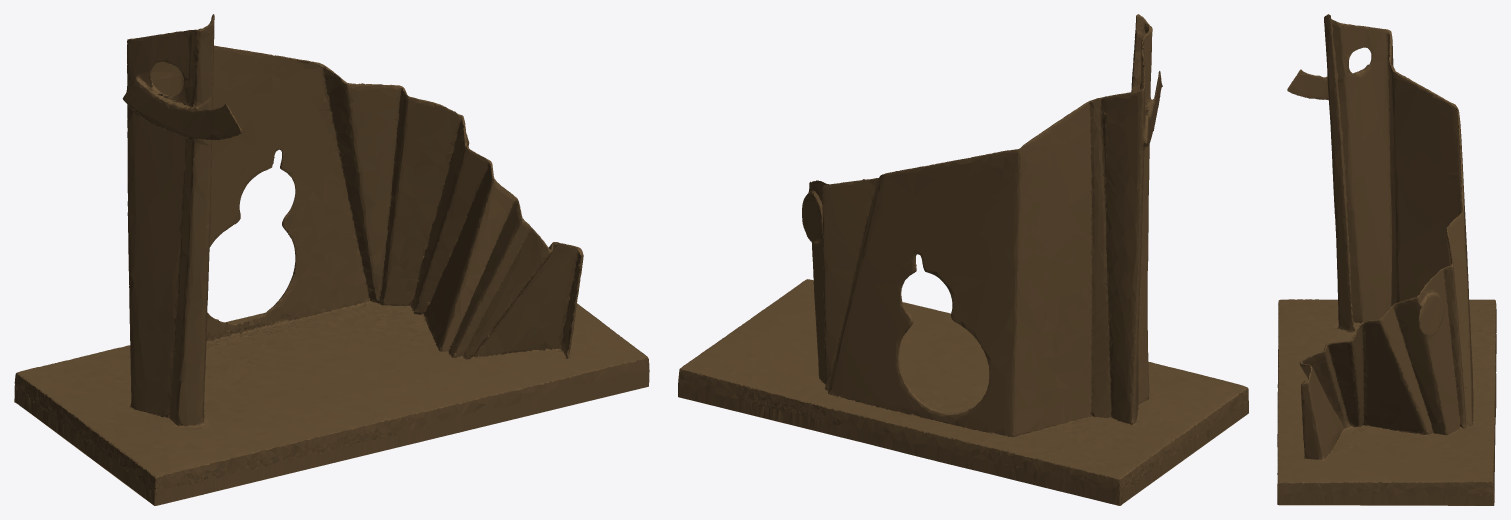
3 views of the same model, side by side, from view 1: azimuth 30°, elevation 25°; view 2: azimuth 150°, elevation 25°; view 3: azimuth 270°, elevation 25° (orthographic). The views are drawn at different scales.
Visible parts, largest first — view 1: polySurface1_S_group; view 2: polySurface1_S_group; view 3: polySurface1_S_group.
Boxes of the visible parts, left/top/right/bottom form: polySurface1_S_group: left=14, top=14, right=649, bottom=505; polySurface1_S_group: left=678, top=14, right=1248, bottom=505; polySurface1_S_group: left=1277, top=14, right=1496, bottom=505.
Bounding box in the file's own units: 12.73 × 10.93 × 6.37.
